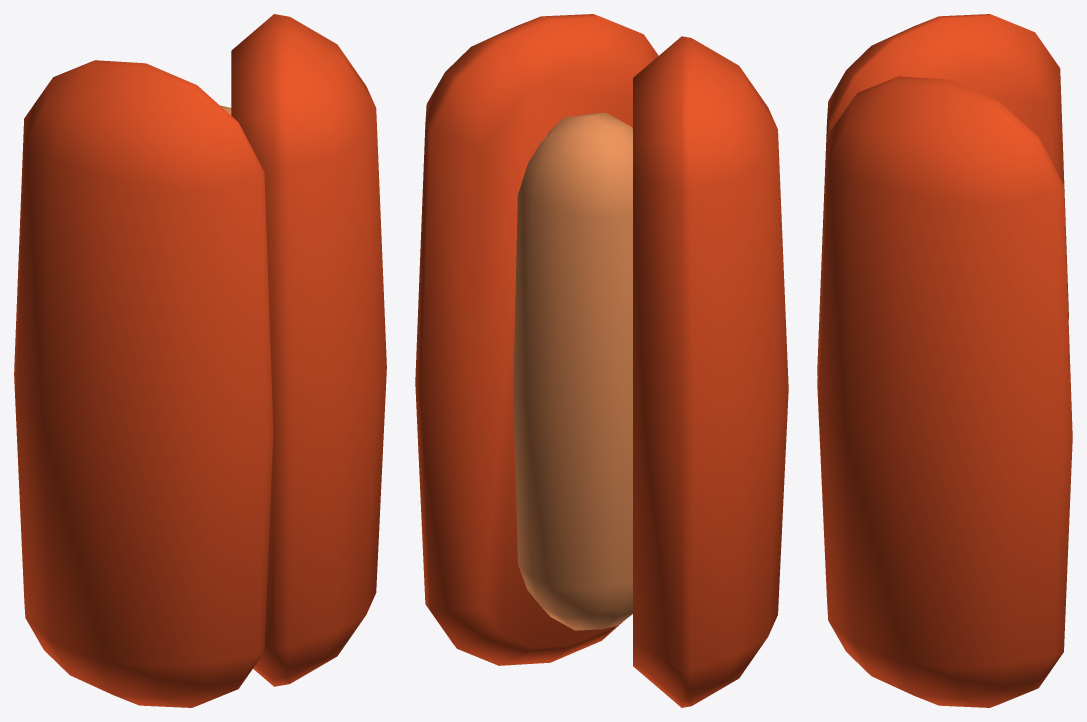
The model's file is hotdog.fbx.
3 renders of one model, left to right at view 1: azimuth 30°, elevation 25°; view 2: azimuth 150°, elevation 25°; view 3: azimuth 270°, elevation 25°, orthographic. The views are drawn at different scales.
Parts seen in each view (by area): view 1: Cube; view 2: Cube, Cube.001; view 3: Cube.
Boxes of the visible parts, x1,y1,x2,y2 form: Cube: (14, 14, 386, 707); Cube: (415, 14, 788, 707); Cube.001: (513, 112, 632, 630); Cube: (817, 14, 1072, 707).
Bounding box in the file's own units: 207 × 382 × 142.
